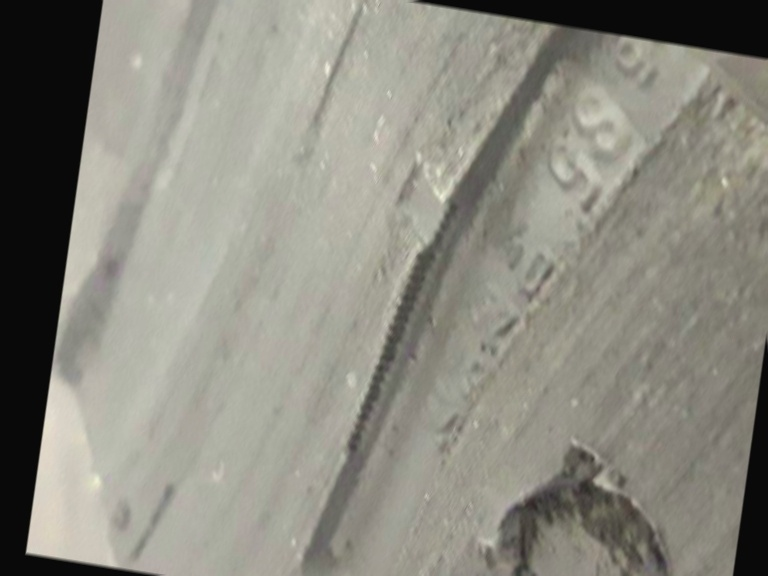temoin:0: (372, 142, 479, 277)
